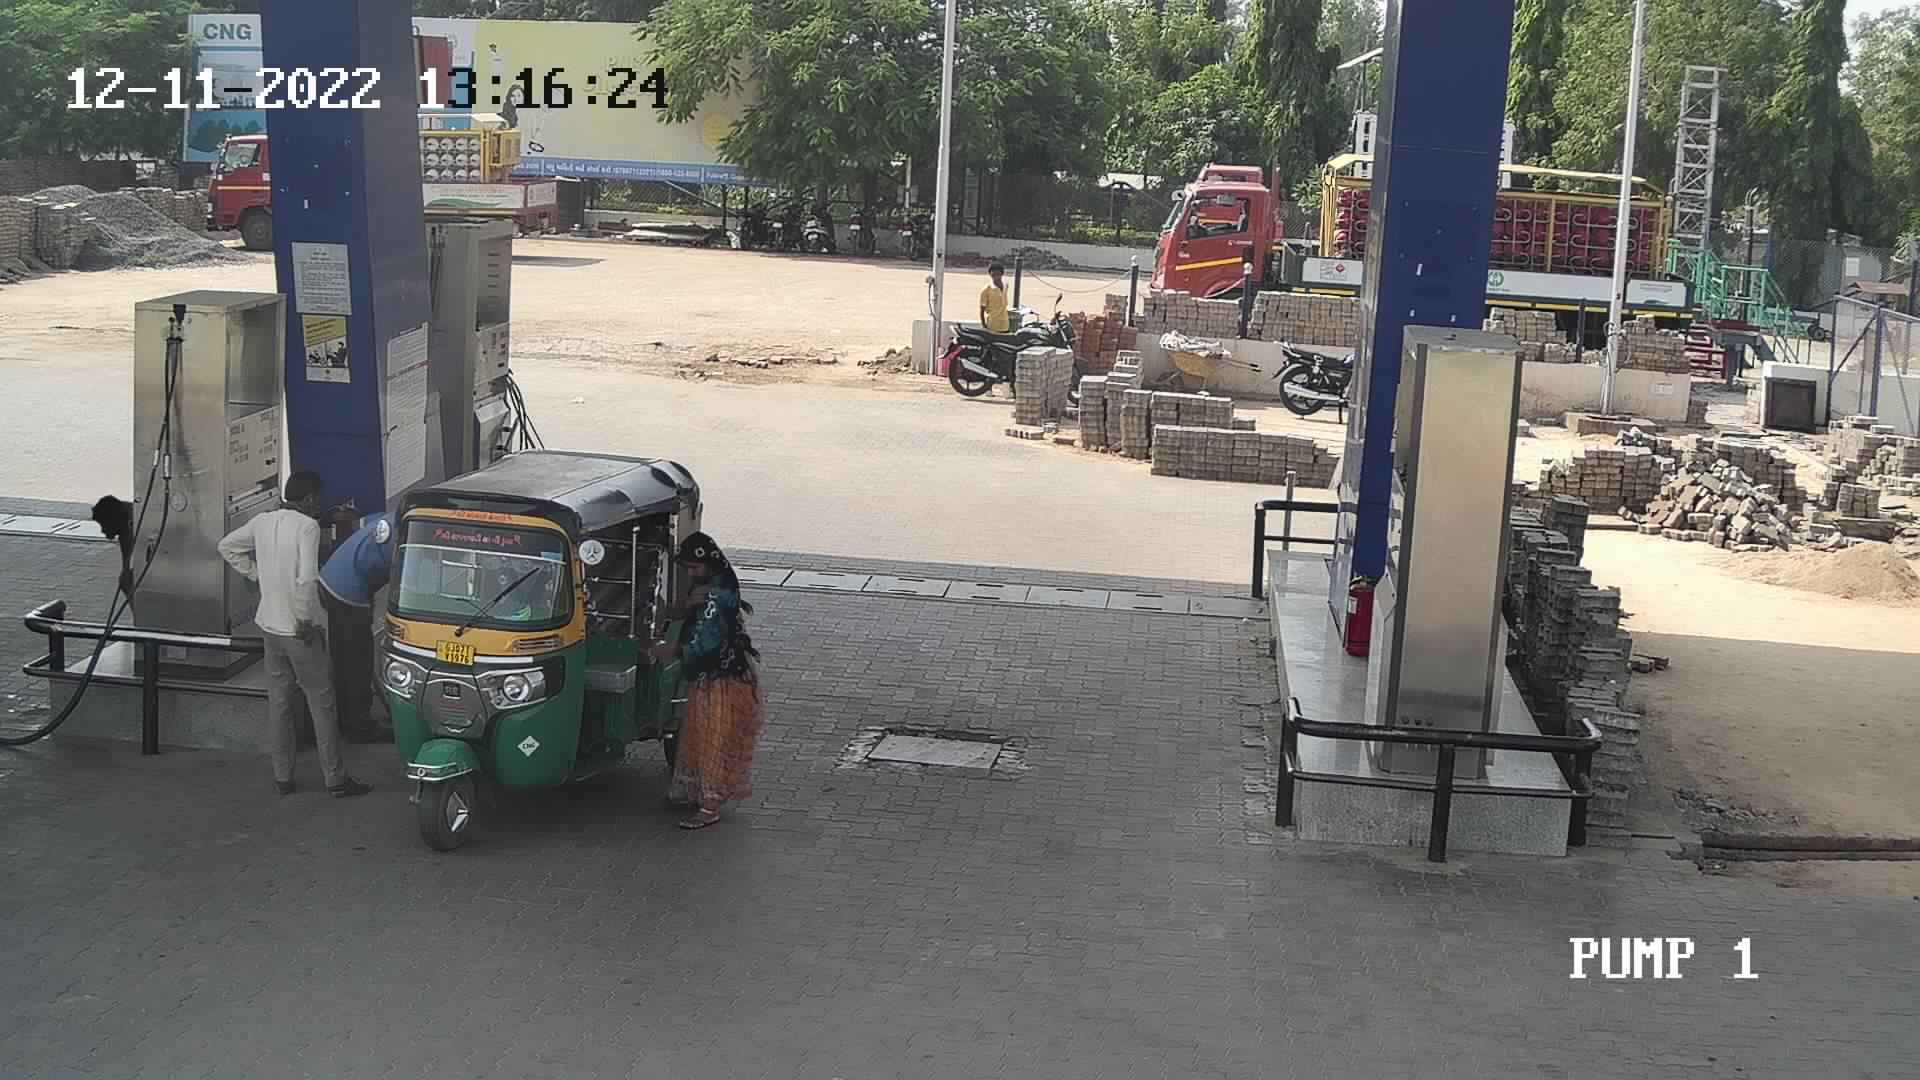Auto: (348, 433, 729, 835)
Bike: (938, 290, 1102, 426), (1269, 332, 1364, 422), (729, 173, 779, 252), (891, 185, 938, 266), (793, 185, 843, 253), (767, 185, 814, 253), (843, 179, 881, 255)
HMV: (1145, 144, 1382, 342), (1189, 99, 1379, 266), (406, 100, 575, 252)
Others: (315, 481, 419, 756)
